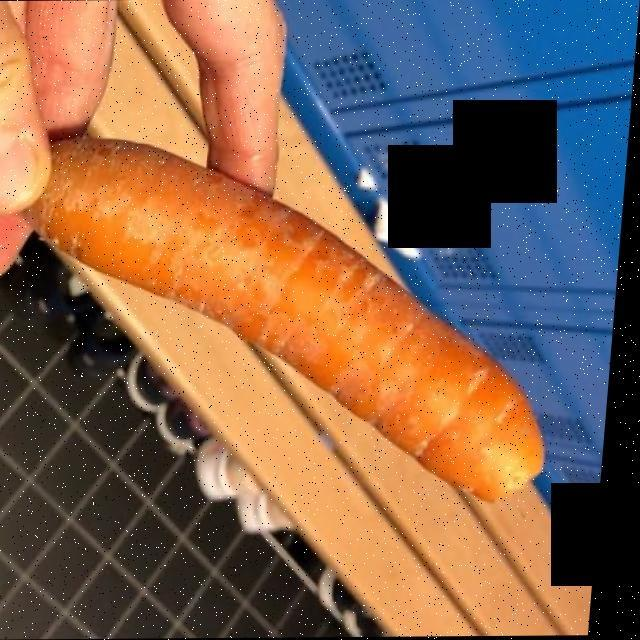carrot: (40, 147, 547, 504)
